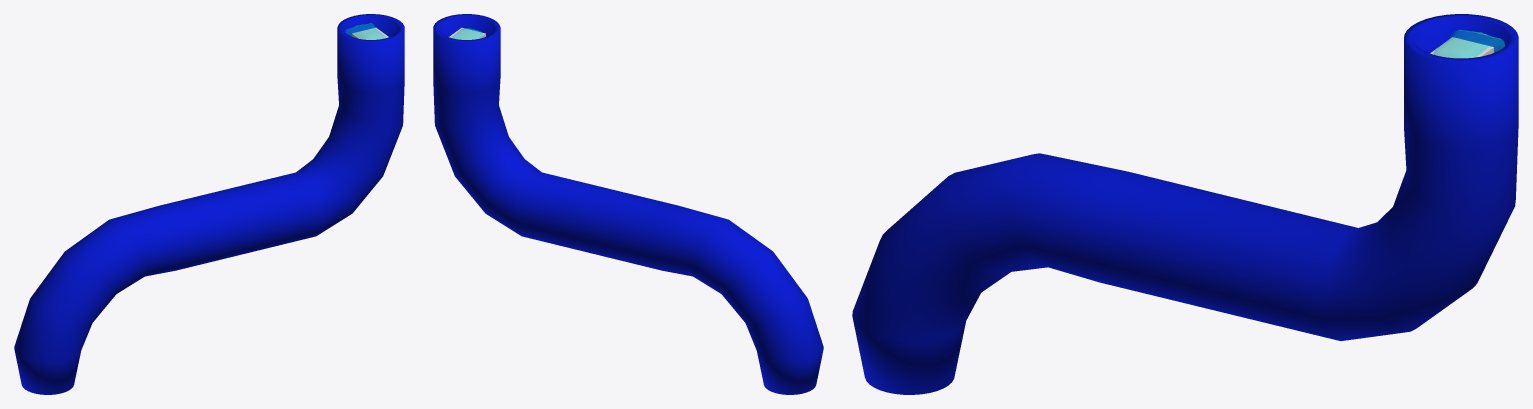
Rendered from Fluid_Test.dae.
3 views of the same model, side by side, from view 1: azimuth 30°, elevation 25°; view 2: azimuth 150°, elevation 25°; view 3: azimuth 330°, elevation 25° (orthographic). The views are drawn at different scales.
Parts seen in each view (by area): view 1: Cylinder, Cube_001; view 2: Cylinder; view 3: Cylinder, Cube_001, Cube.
Boxes of the visible parts, x1,y1,x2,y2 form: Cylinder: (14,14,404,394); Cube_001: (345,23,385,39); Cylinder: (433,14,823,394); Cylinder: (852,14,1518,394); Cube_001: (1433,30,1504,57); Cube: (1430,37,1493,58).
Bounding box in the file's own units: 15.69 × 2.4 × 10.88.
